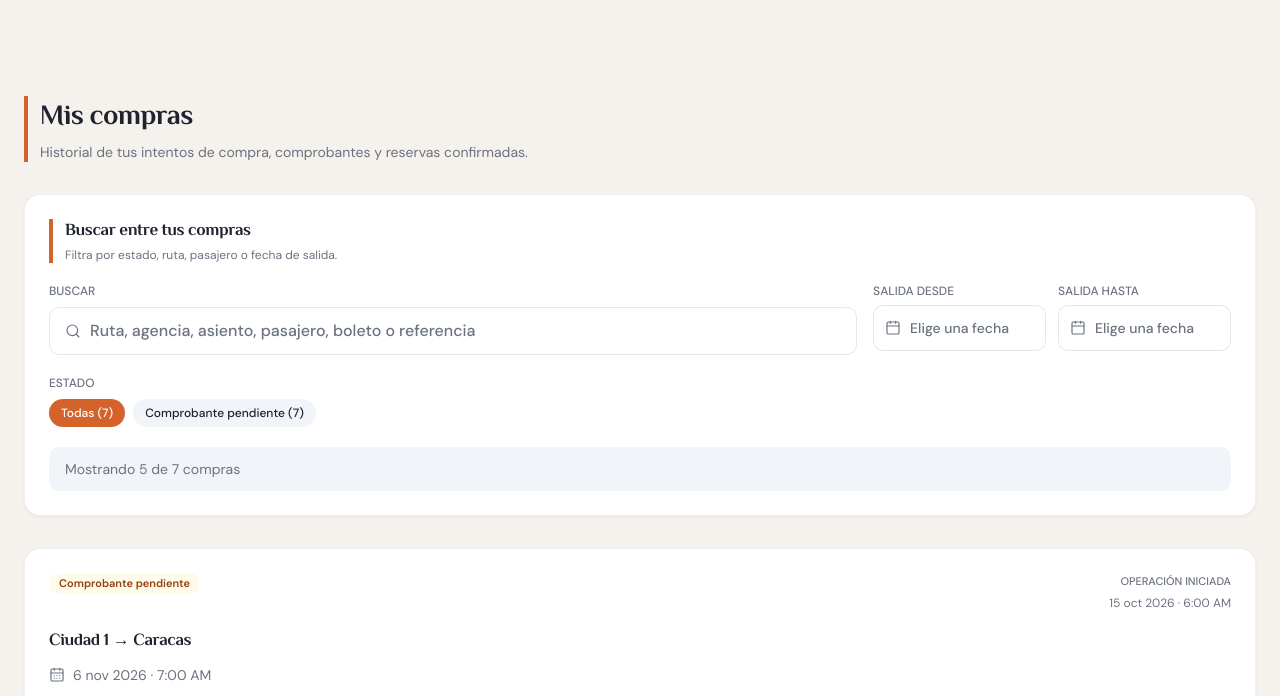
Test case: MisComprasPage — filtros de búsqueda del cliente › busca en TODO el historial, no solo en la página visible
The width and height of the screenshot is (1280, 696).
Expected: the heading "Ciudad 1 → Caracas" is shown, [49, 628, 191, 654]
Expected: the text "Ciudad 6 → Caracas" is not shown
# …pero el texto la encuentra igual: el filtro va sobre el historial.
Type "Ciudad 6" into the search field labelled "Buscar".
click(453, 331); type("Ciudad 6")  # box [49, 306, 857, 355]
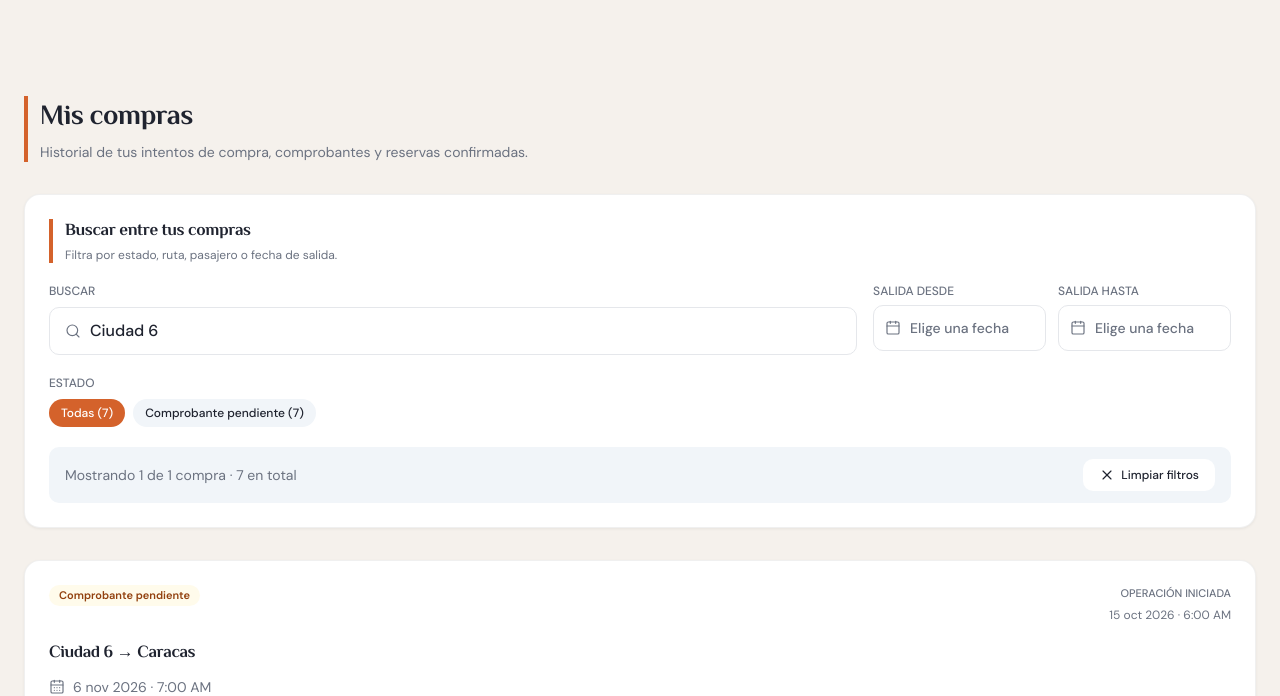
Result: the heading "Ciudad 6 → Caracas" is shown at [49, 640, 195, 666]
Result: the text "Mostrando 1 de 1 compra · 7 en total" is shown at [65, 465, 297, 485]
